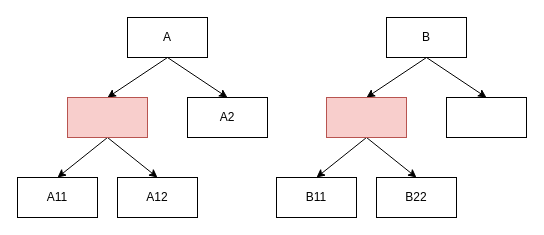
Some shapes in this 544 by 235 pixel diagram are drawn without their labels. The shapes that lost their labels are listed below. From the top down, each one's centre as x and y in pixels, then its label:
At point 107,117: "A1".
At point 366,117: "B1".
At point 486,117: "B2".
